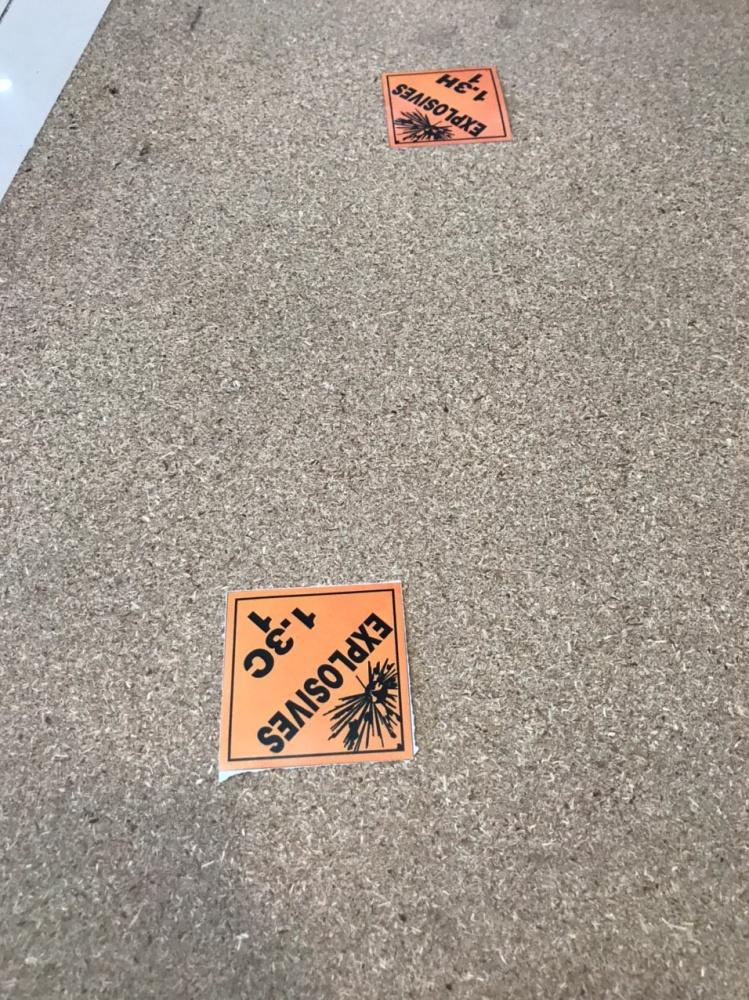explosive: (221, 586, 404, 770), (385, 67, 506, 146)
